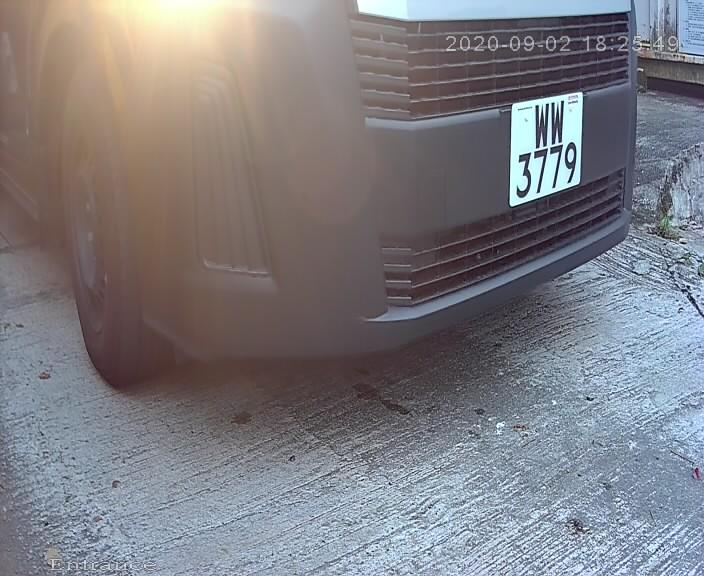License Plate: (497, 83, 594, 214)
